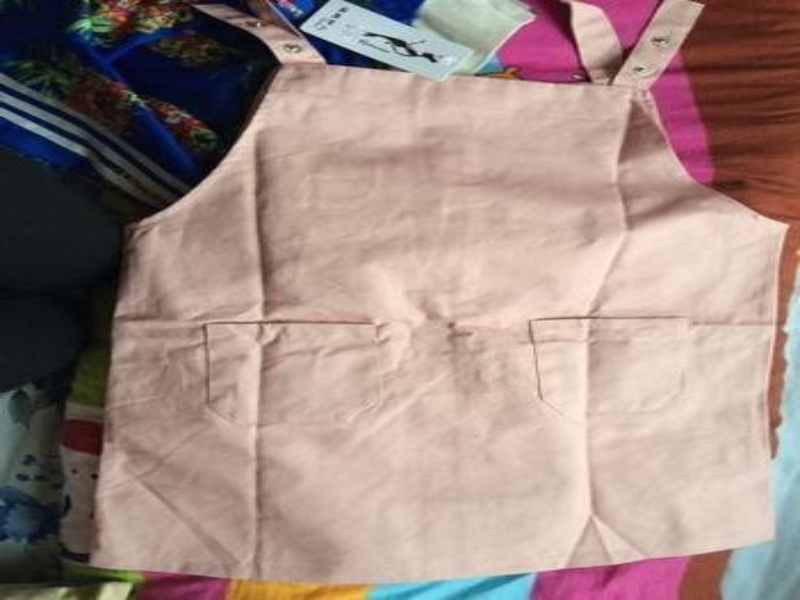sling_dress: (66, 0, 798, 592)
